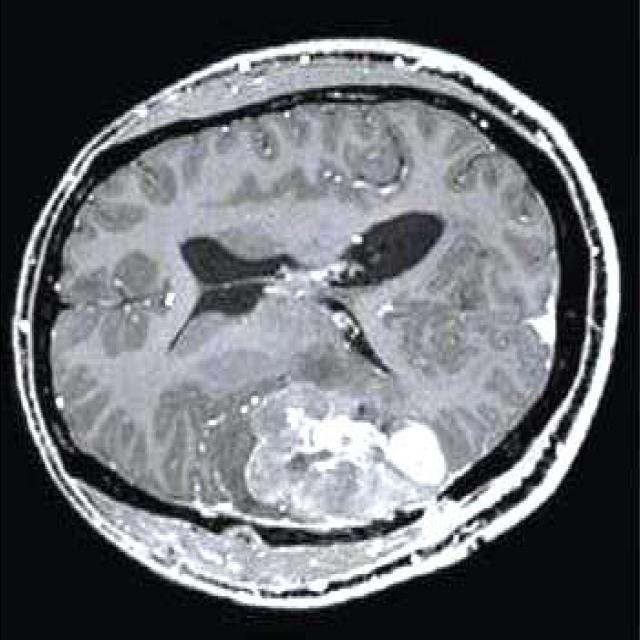tumor: (235, 381, 441, 528)
